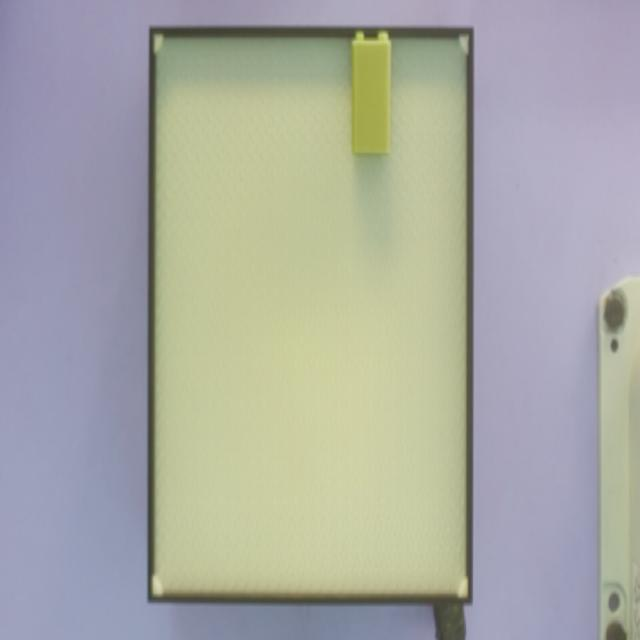Bateria: (352, 41, 391, 154)
Mesa: (148, 26, 474, 605)
Pestana: (378, 32, 388, 39), (356, 32, 364, 38)
